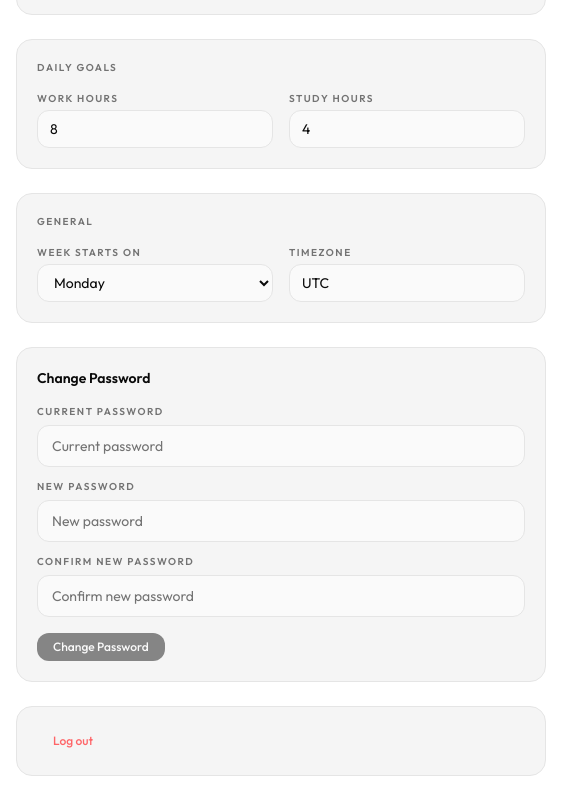
Scenario: SettingsPage › shows new_password validation errors
This screenshot has width=563, height=800.
(page scrolled)
Type "testpass123" into the password field with placeholder "Current password" at (281,446), box [37,425,525,467]
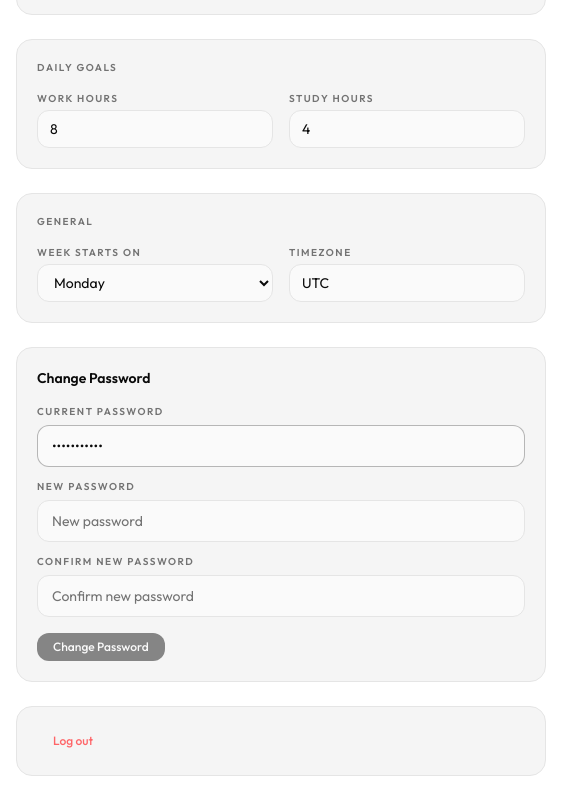
Type "password1234" into the password field with placeholder "New password" at (281,521), box [37,500,525,542]
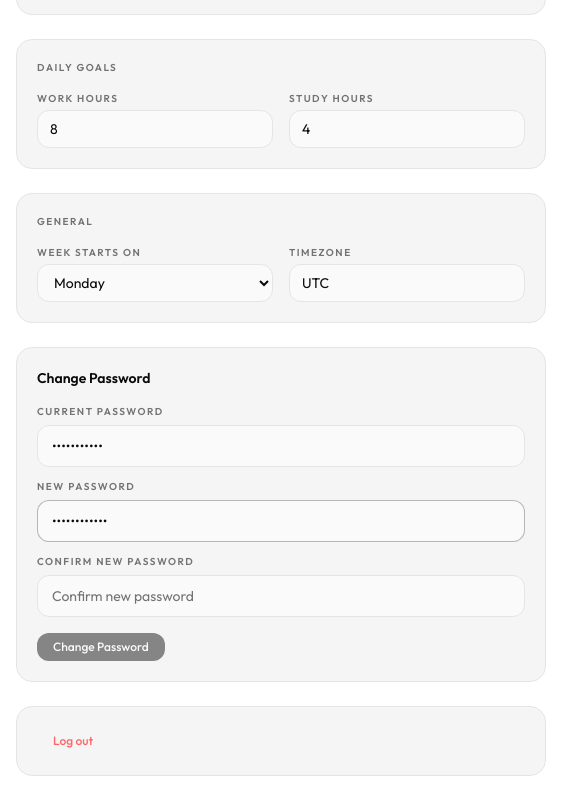
Type "password1234" into the password field with placeholder "Confirm new password" at (281,596), box [37,575,525,617]
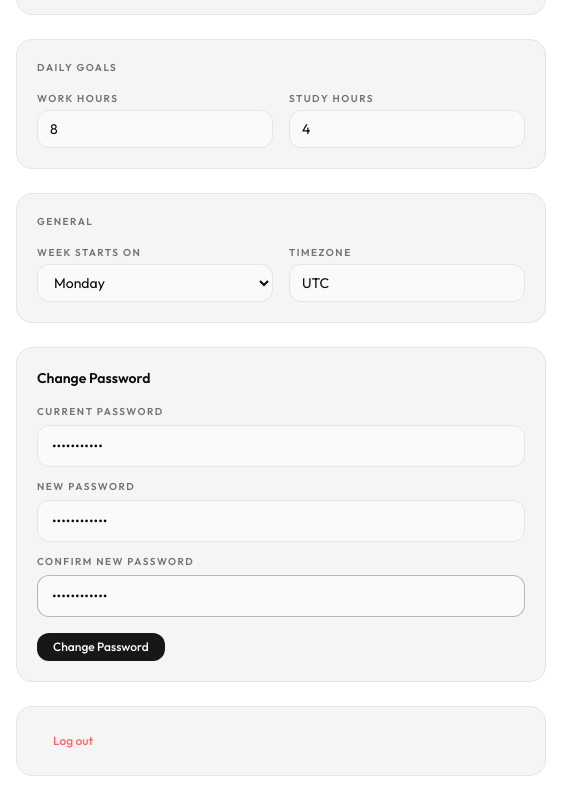
Click the button "Change Password" at (101,647), box [37,633,165,661]
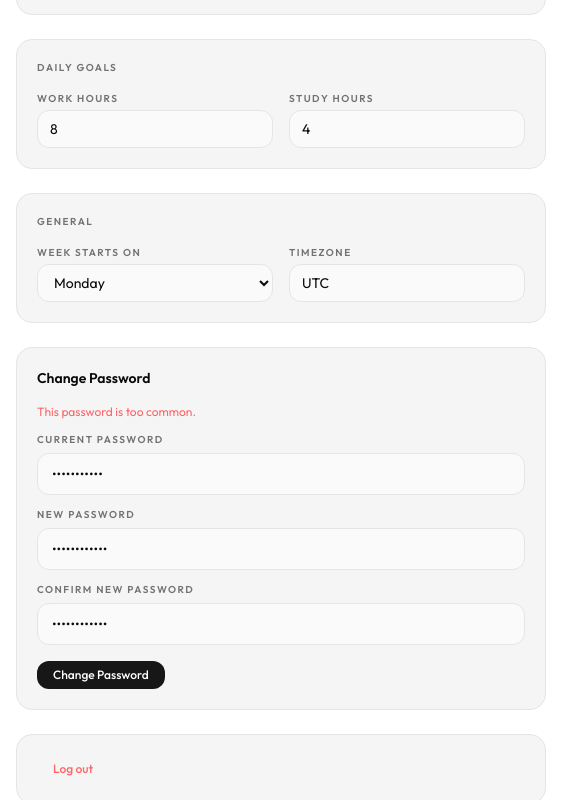
Check: the text "This password is too common." is shown, box [37,404,196,419]
